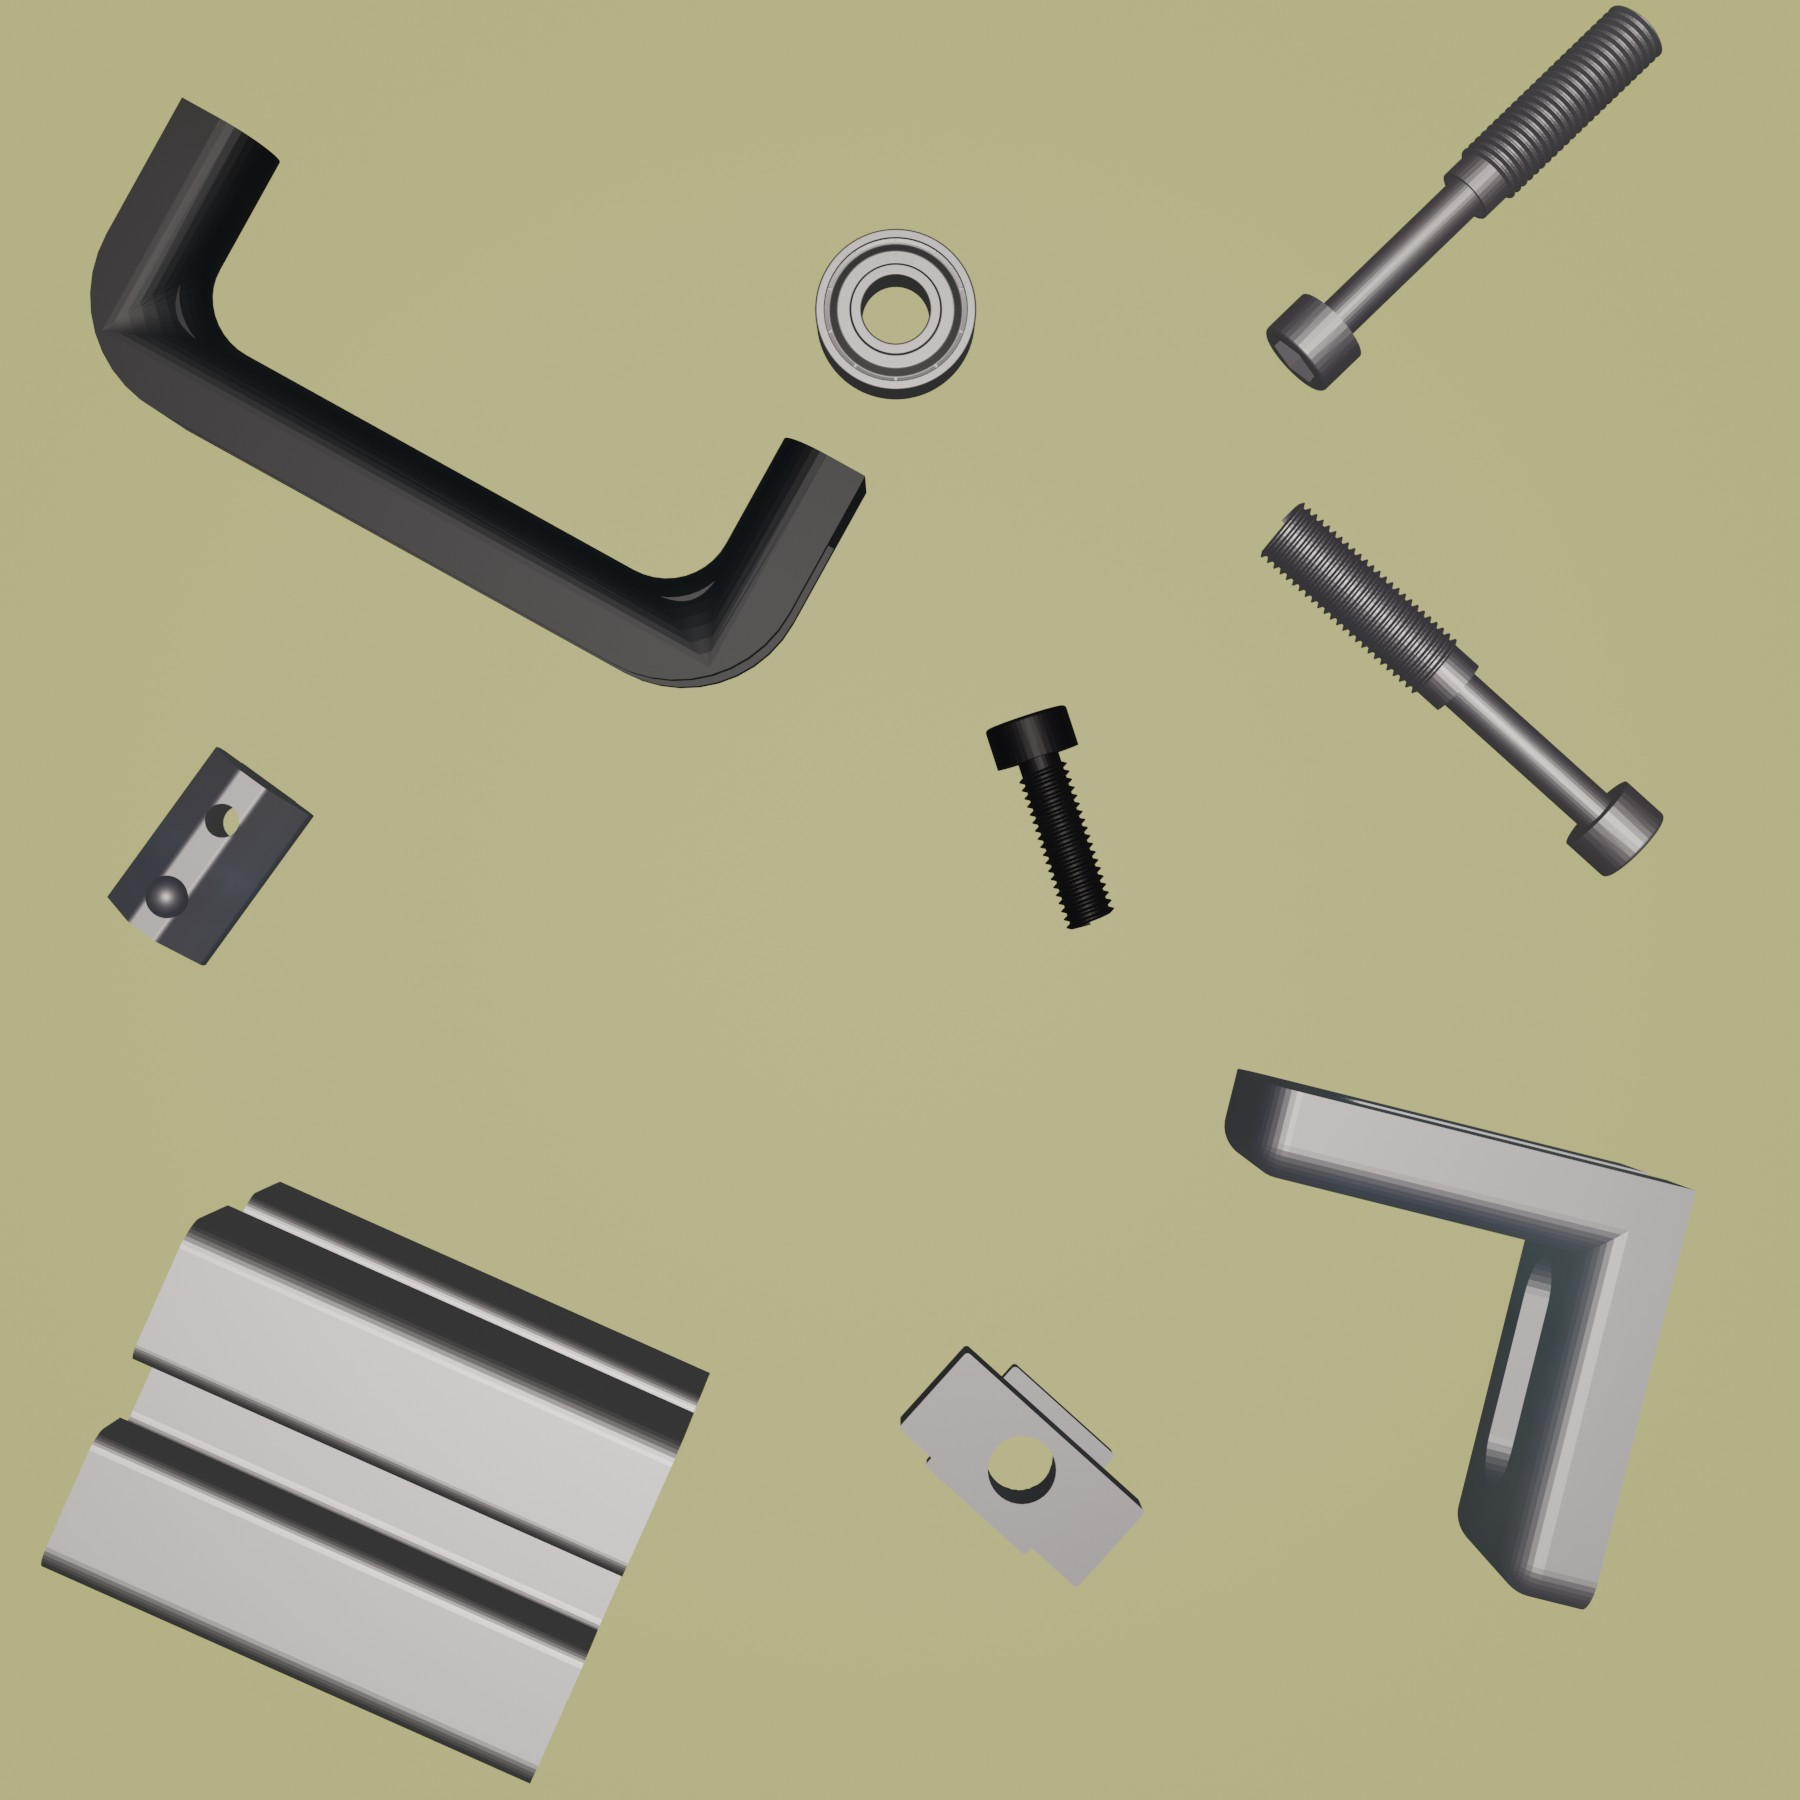Aluminium Extension: (40, 1179, 712, 1788)
Ball Bearing: (813, 224, 977, 401)
Multiwinkel: (1220, 1066, 1701, 1610)
Pull Handle: (86, 96, 870, 689)
Shoulder Socket Head Cap Screw: (1263, 3, 1666, 392), (1254, 499, 1665, 877)
Socket Head Cap Screw: (982, 701, 1114, 935)
T Nut Square: (897, 1342, 1147, 1592)
T Spring Nut: (104, 745, 316, 968)
